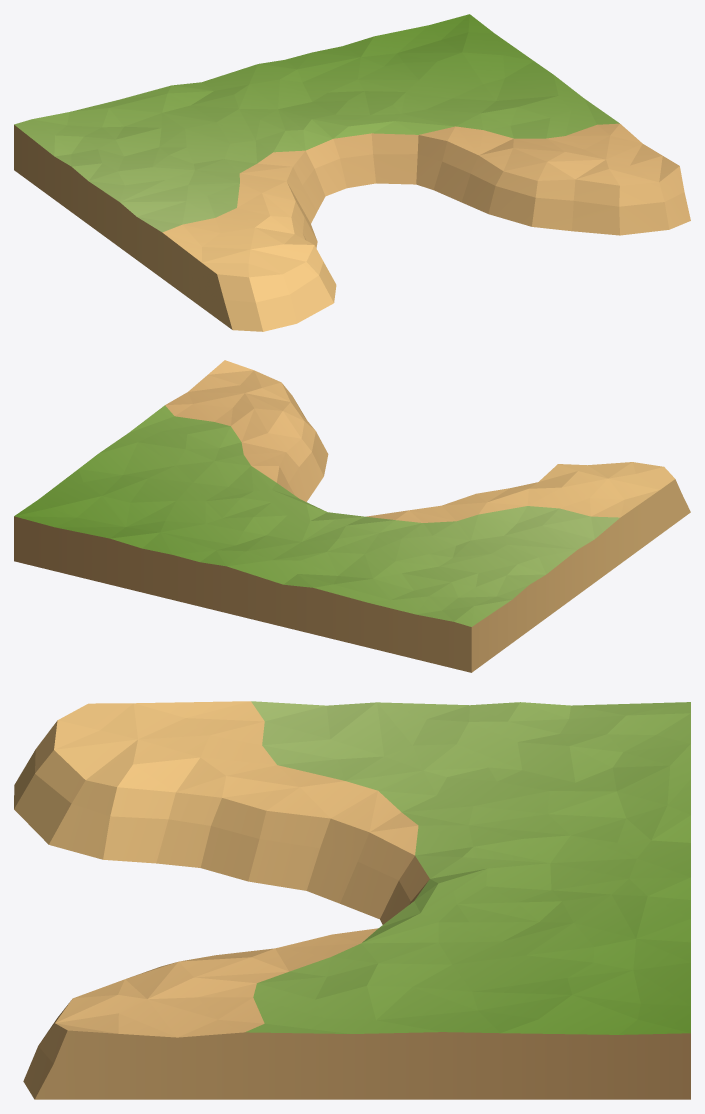
The model's file is land-mysterious-place.glb.
3 renders of one model, top to bottom at view 1: azimuth 30°, elevation 25°; view 2: azimuth 150°, elevation 25°; view 3: azimuth 270°, elevation 25°, orthographic. The views are drawn at different scales.
Visible parts, largest first — view 1: land mysterious place; view 2: land mysterious place; view 3: land mysterious place.
Part boxes in pixels (left/top/right/bottom): land mysterious place: left=14, top=14, right=690, bottom=331; land mysterious place: left=14, top=360, right=690, bottom=672; land mysterious place: left=14, top=701, right=690, bottom=1099.
Size of the model in its own units: 45 by 4.47 by 39.01.
1 material, 1 textured.
